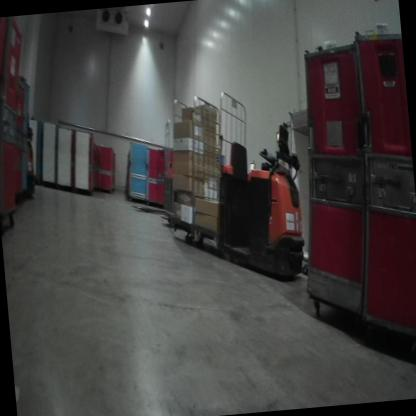pallet_truck: (144, 101, 311, 283)
